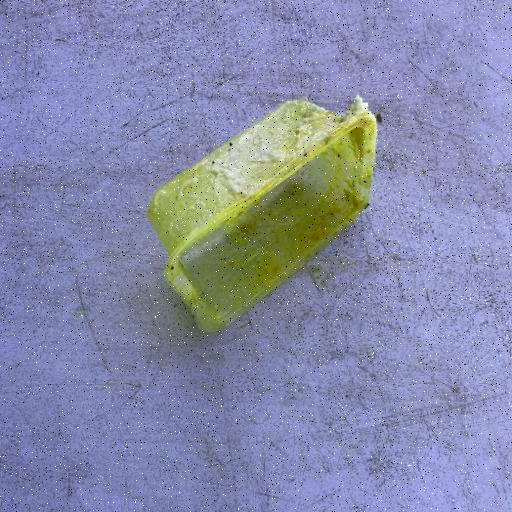Plastic: (144, 92, 380, 336)
